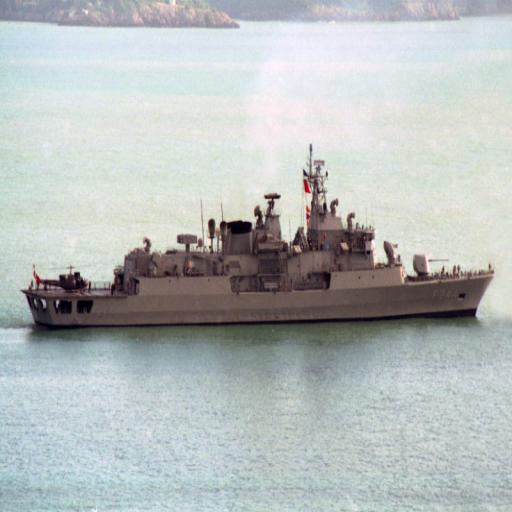Fragata: (21, 136, 499, 336)
